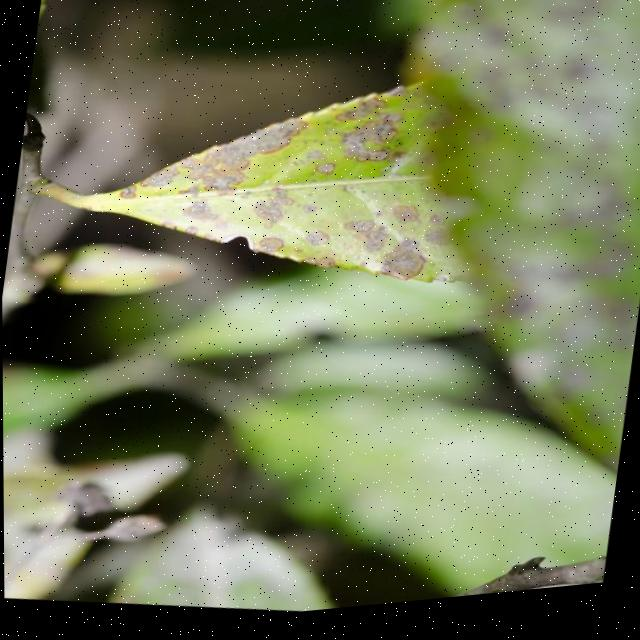Tea red rust: (82, 46, 433, 308)
